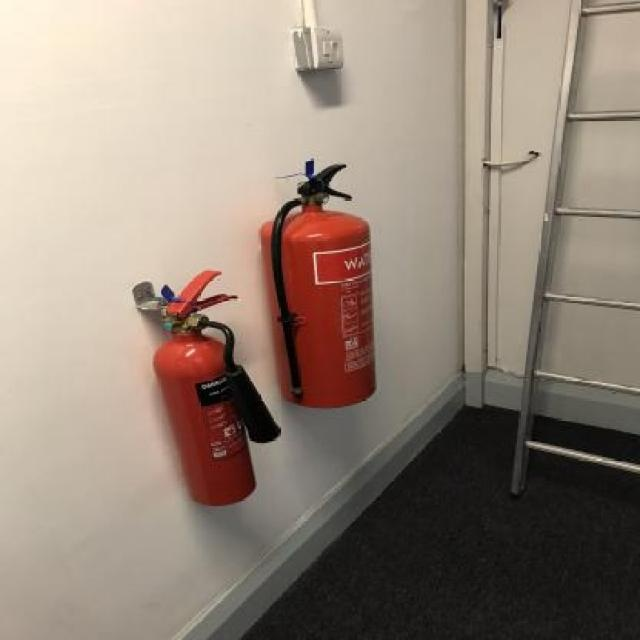fire extinguisher: (255, 156, 380, 409), (151, 271, 281, 506)
